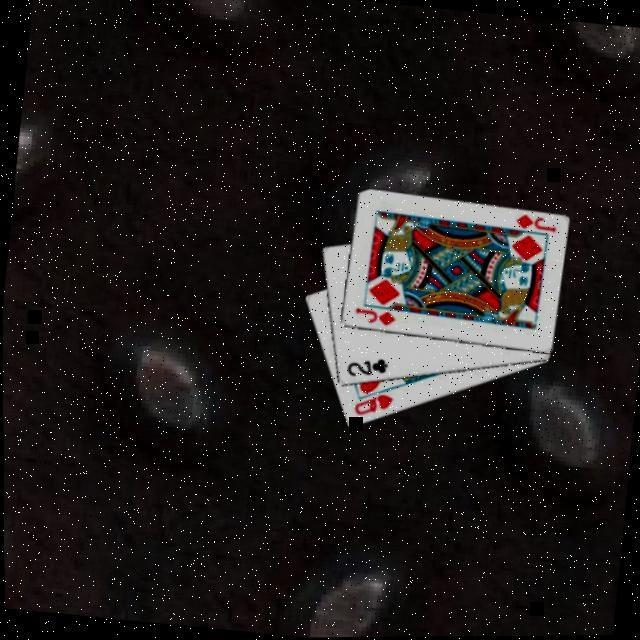2C: (341, 351, 388, 382)
JD: (350, 303, 398, 330), (510, 210, 558, 236)
QH: (348, 387, 395, 421)
